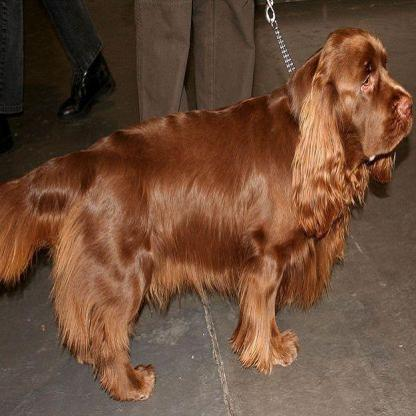Sussex_spaniel: (0, 24, 414, 402)
